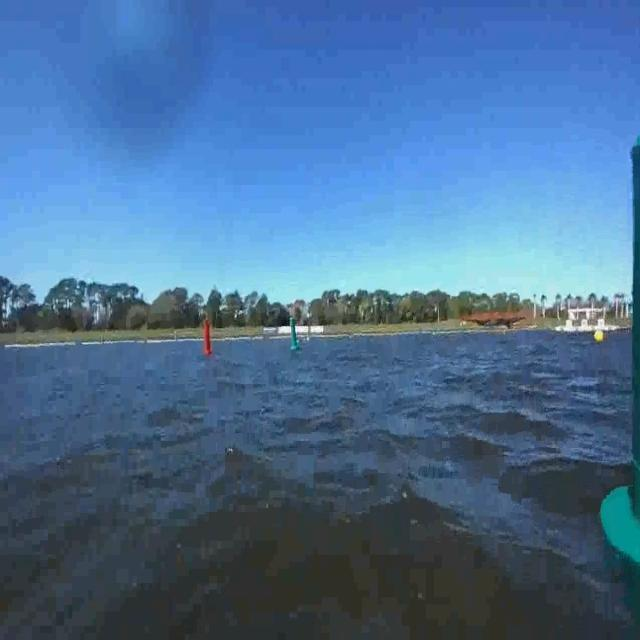green-column-buoy: (601, 139, 640, 601), (286, 308, 308, 361)
red-column-buoy: (201, 306, 217, 362)
